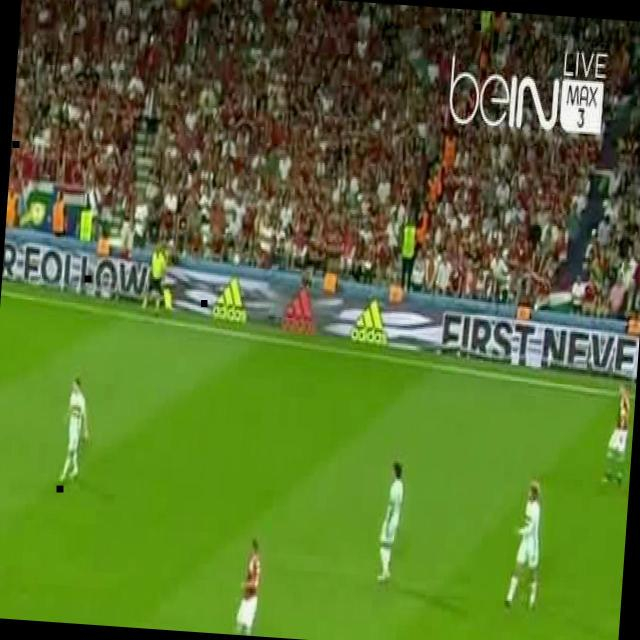player-white: (504, 476, 546, 611), (59, 378, 93, 484), (601, 380, 633, 485), (377, 460, 404, 584), (234, 536, 262, 636), (141, 244, 167, 316)
